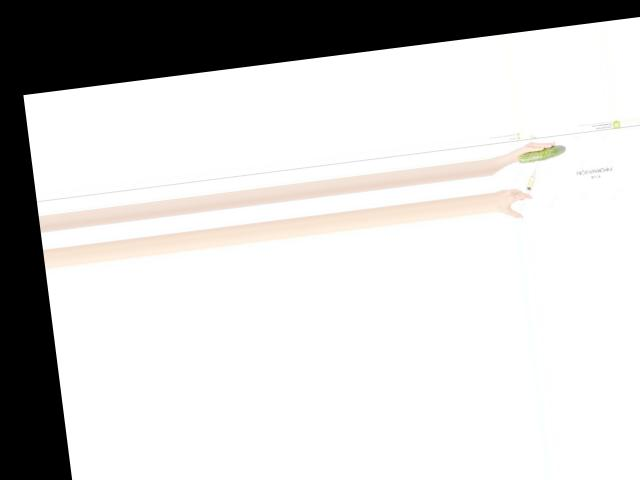cucumber: (516, 144, 566, 163)
